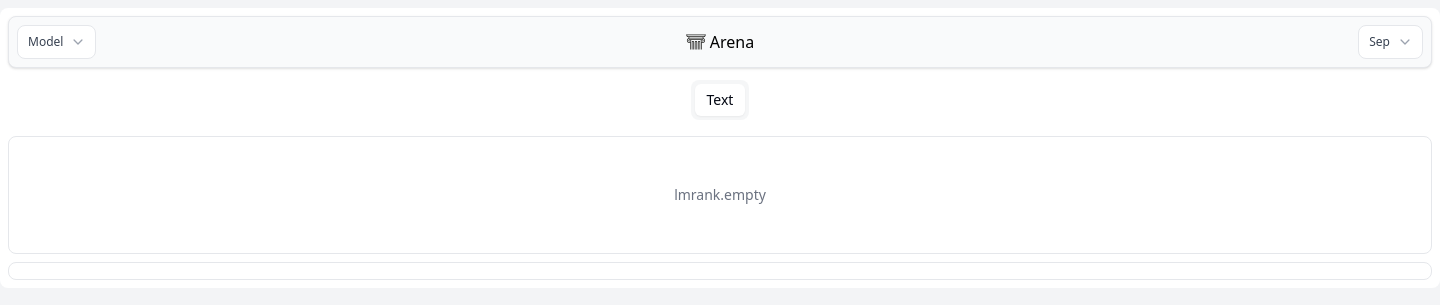
Test: opens compact dropdowns, marks the current option and routes selections
The image size is (1440, 305).
Click the button "Model" at [57, 42], box [18, 26, 95, 58]
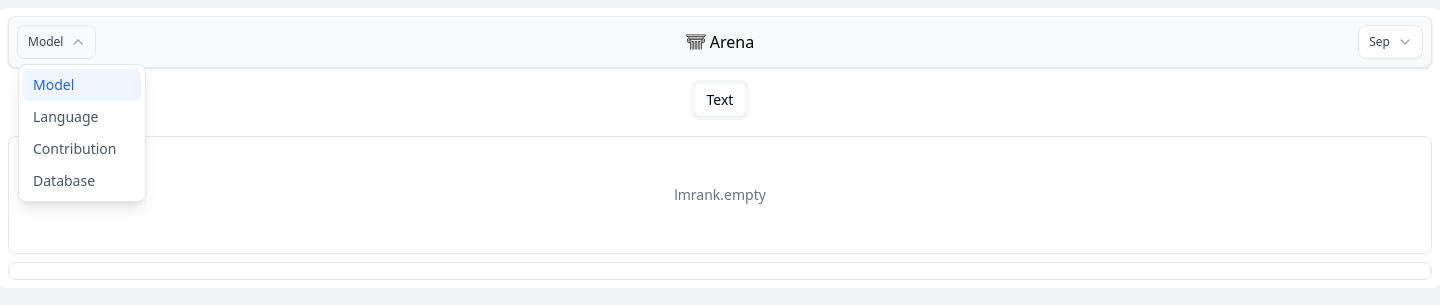
expect the button "Model" is expanded: met, box [18, 26, 95, 58]
Click the menu item "Contribution" at [75, 148], box [33, 139, 116, 158]
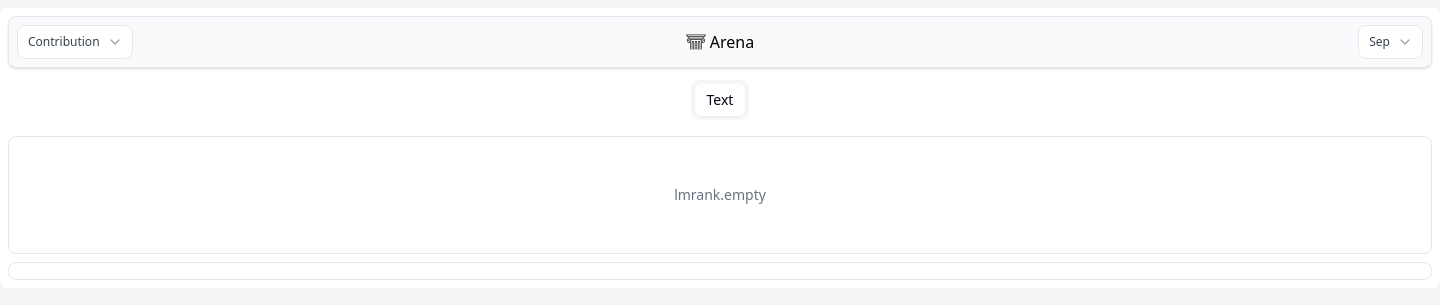
expect the button named "Model" is collapsed: met, box [18, 26, 132, 58]
Click the button "Sep" at [1391, 42], box [1359, 26, 1422, 58]
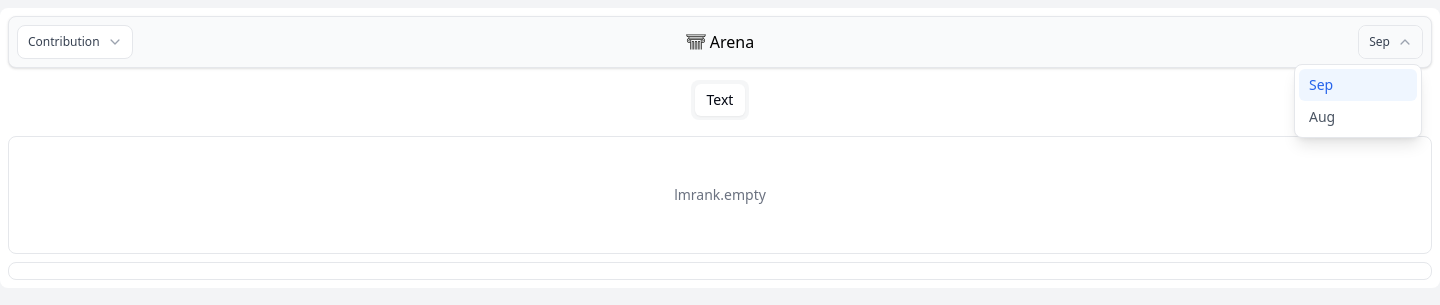
expect the menu has class "right-0" "block": met, box [1294, 64, 1422, 138]
Click the menu item "Aug" at [1322, 116], box [1309, 107, 1335, 126]
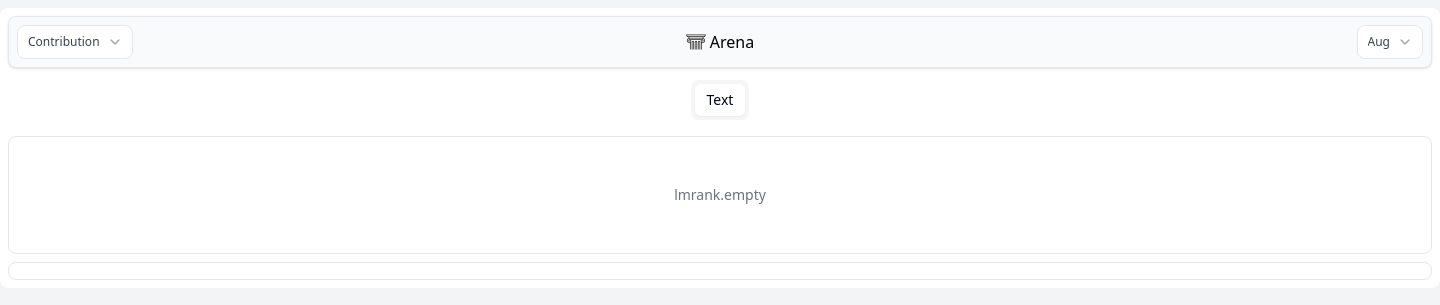
expect the button named "Sep" is collapsed: met, box [1358, 26, 1422, 58]
